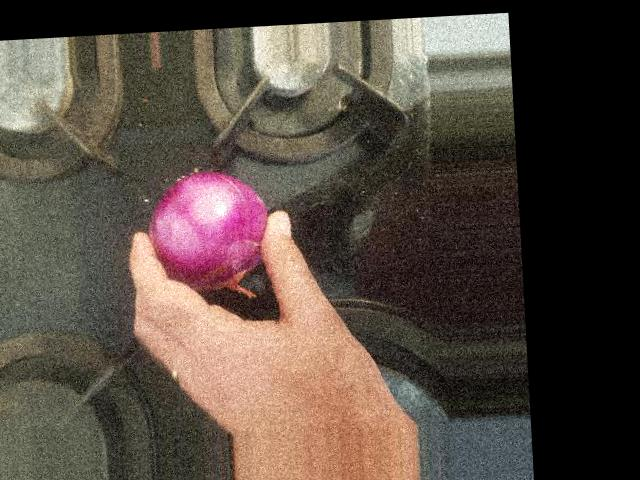onion: (45, 103, 166, 240)
